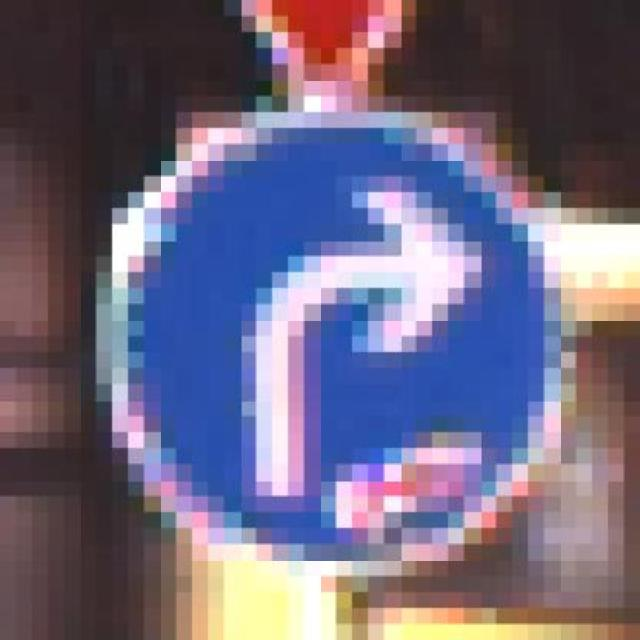Turn right ahead: (95, 79, 592, 576)
